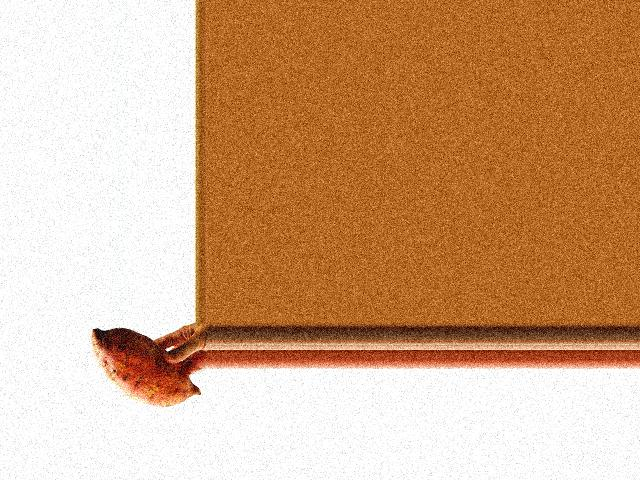sweet_potato: (88, 324, 196, 413)
